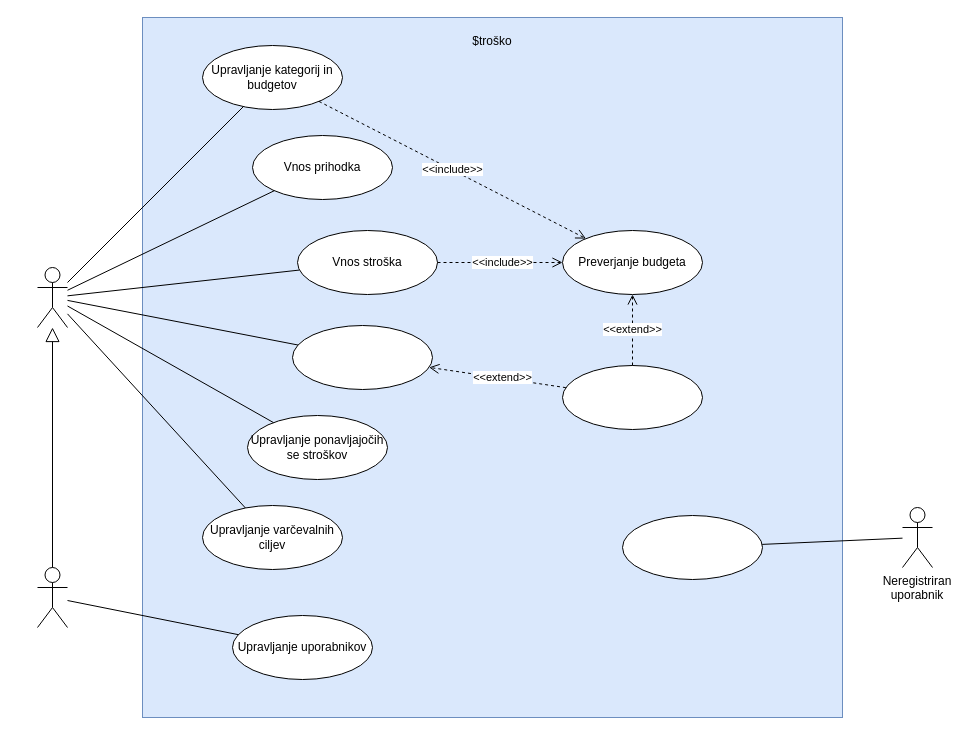
The diagram is 969 pixels wide and 735 high, and some of its shapes have lost their labels. The shapes that lost their labels are listed below. From the top down, each one's box as (x1, y1, x2, y2) in pixels, then its label:
(36, 266, 68, 328): Registriran uporabnik
(292, 324, 432, 390): Pregled porabe
(562, 364, 702, 430): Prikaz opozorila
(622, 514, 762, 580): Registracija
(36, 566, 68, 628): Administrator
